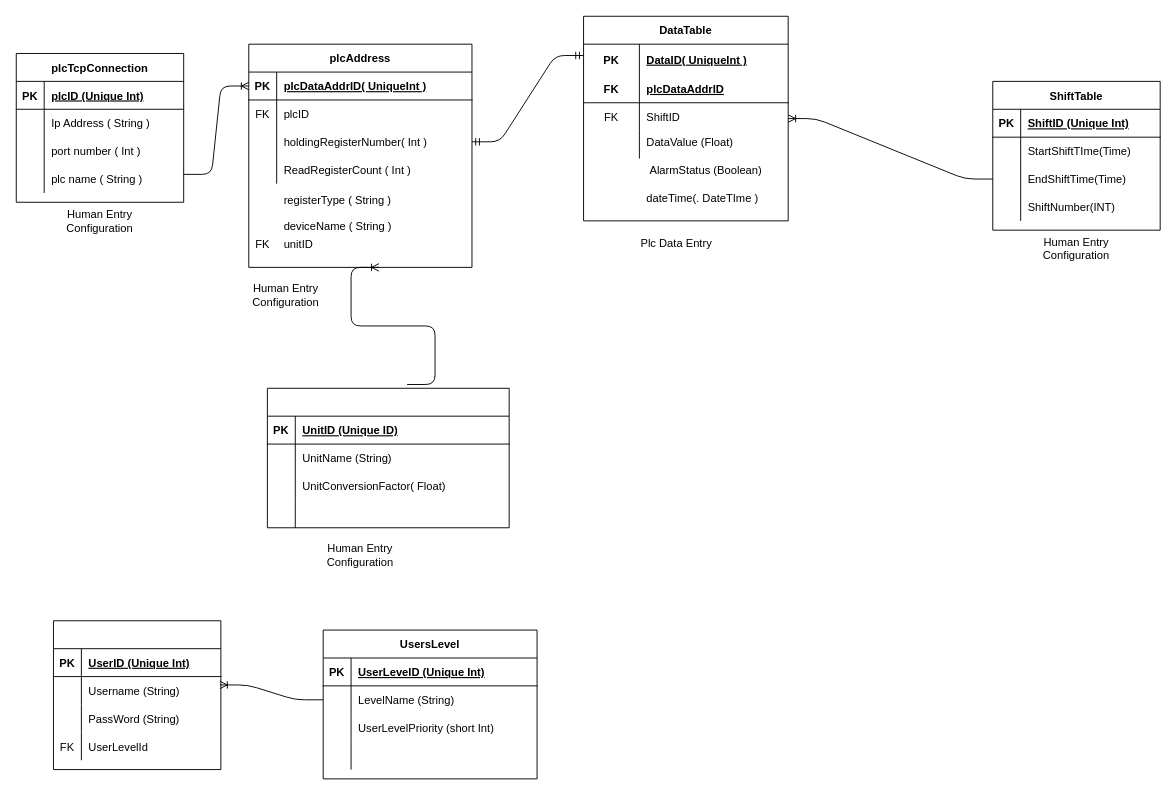
Some shapes in this 1176 by 795 pixel diagram are drawn without their labels. Each missing label, with the box of its shape:
UnitTable: (266, 387, 509, 528)
UserManagement: (53, 620, 221, 770)
